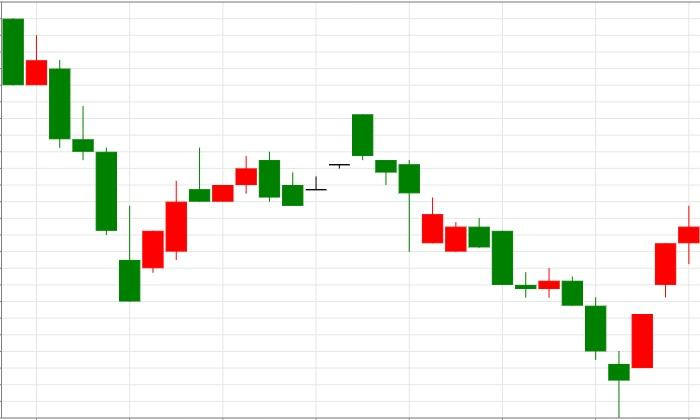evening_star_fall: (469, 218, 653, 418)
inverse_hammer_rise: (2, 18, 141, 302)
